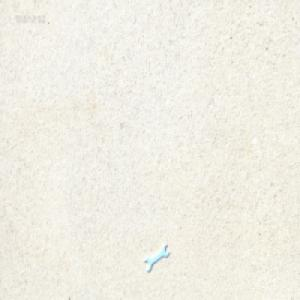Wrench: (143, 242, 167, 270)
